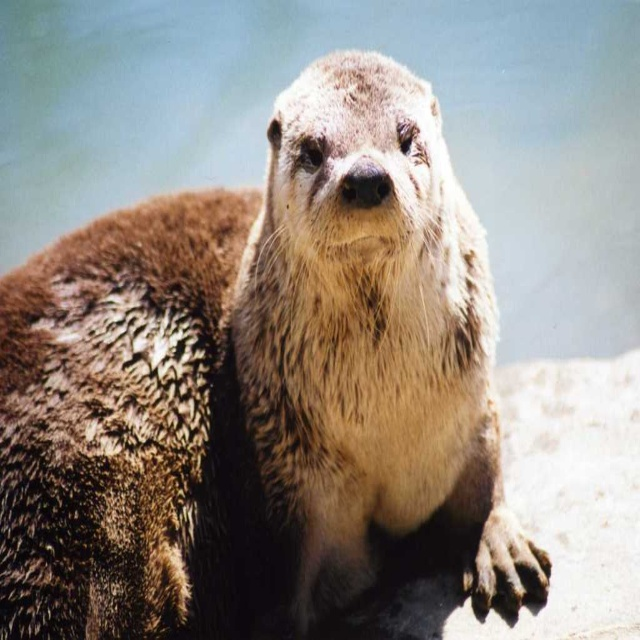Otter: (0, 49, 552, 640)
